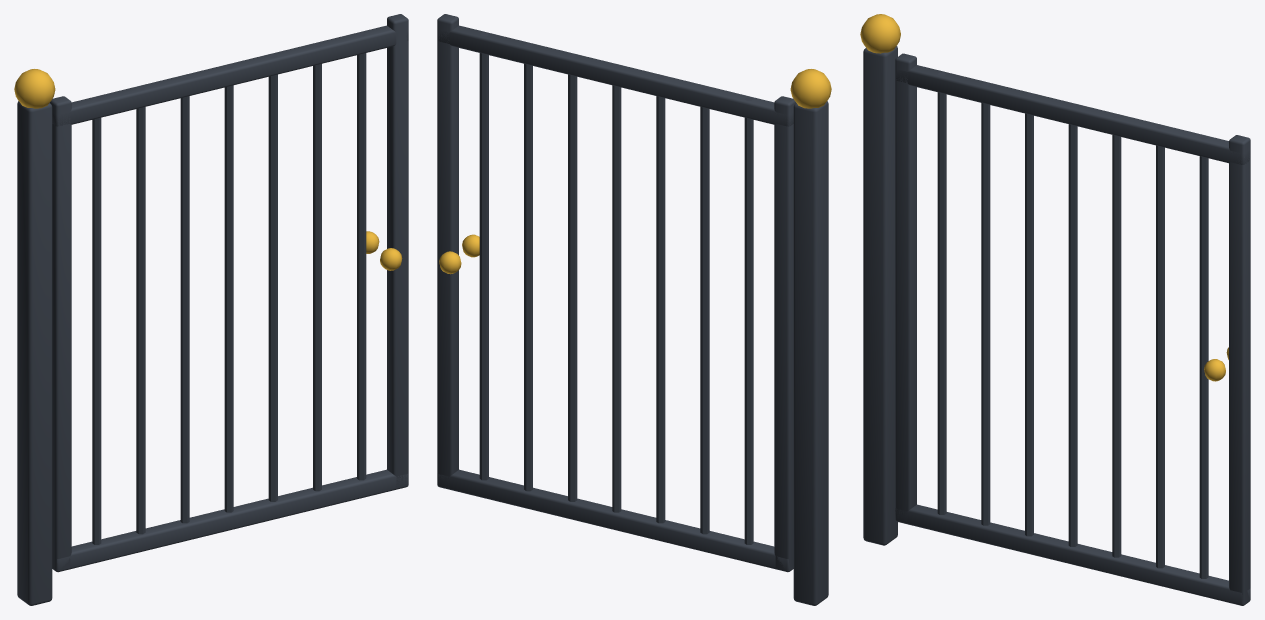
The model's file is portao_pedestre_metal.glb.
3 views of the same model, side by side, from view 1: azimuth 30°, elevation 25°; view 2: azimuth 150°, elevation 25°; view 3: azimuth 330°, elevation 25° (orthographic).
Visible parts, largest first — view 1: porta_1, portao_pedestre_metal; view 2: porta_1, portao_pedestre_metal; view 3: porta_1, portao_pedestre_metal.
Part boxes in pixels (x1,y1,x2,y2): porta_1: [50, 14, 408, 572]; portao_pedestre_metal: [14, 69, 55, 605]; porta_1: [437, 14, 795, 572]; portao_pedestre_metal: [790, 69, 831, 605]; porta_1: [895, 53, 1250, 605]; portao_pedestre_metal: [860, 14, 900, 545].
Size of the model in its own units: 0.98 by 1.27 by 0.15.
1 material, 1 textured.
